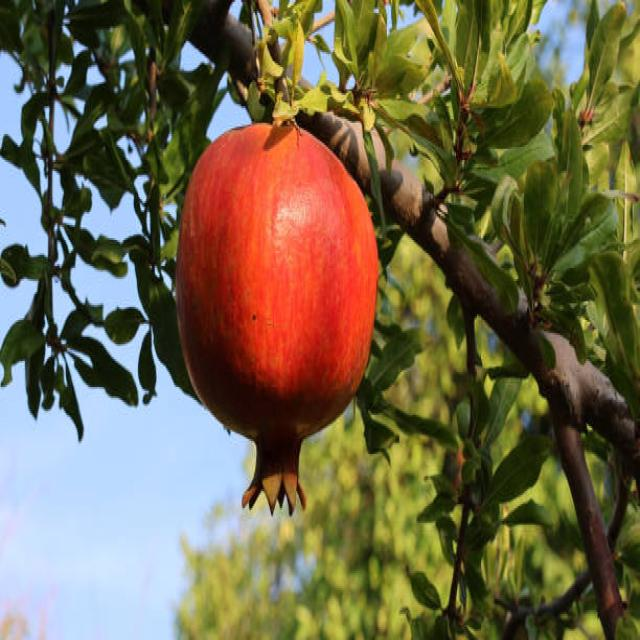Ripe: (175, 114, 382, 519)
